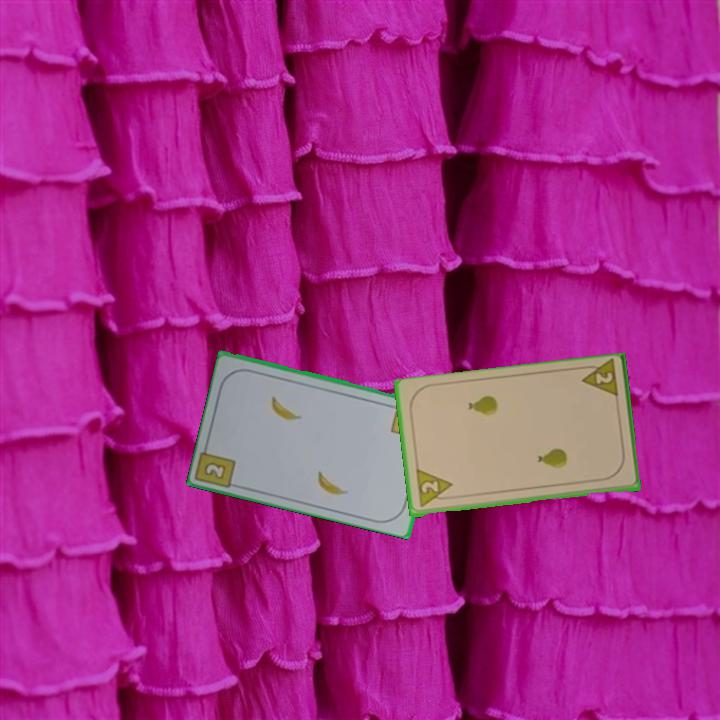2b: (203, 460, 227, 480)
2p: (412, 467, 456, 511), (577, 358, 621, 402)
